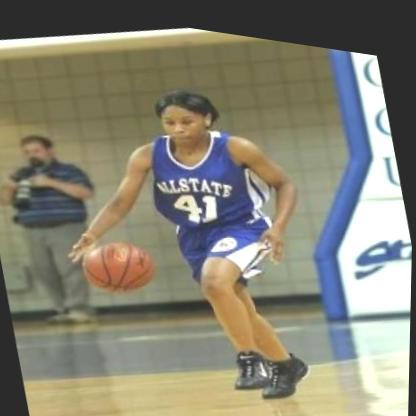basketball: (72, 220, 167, 306)
